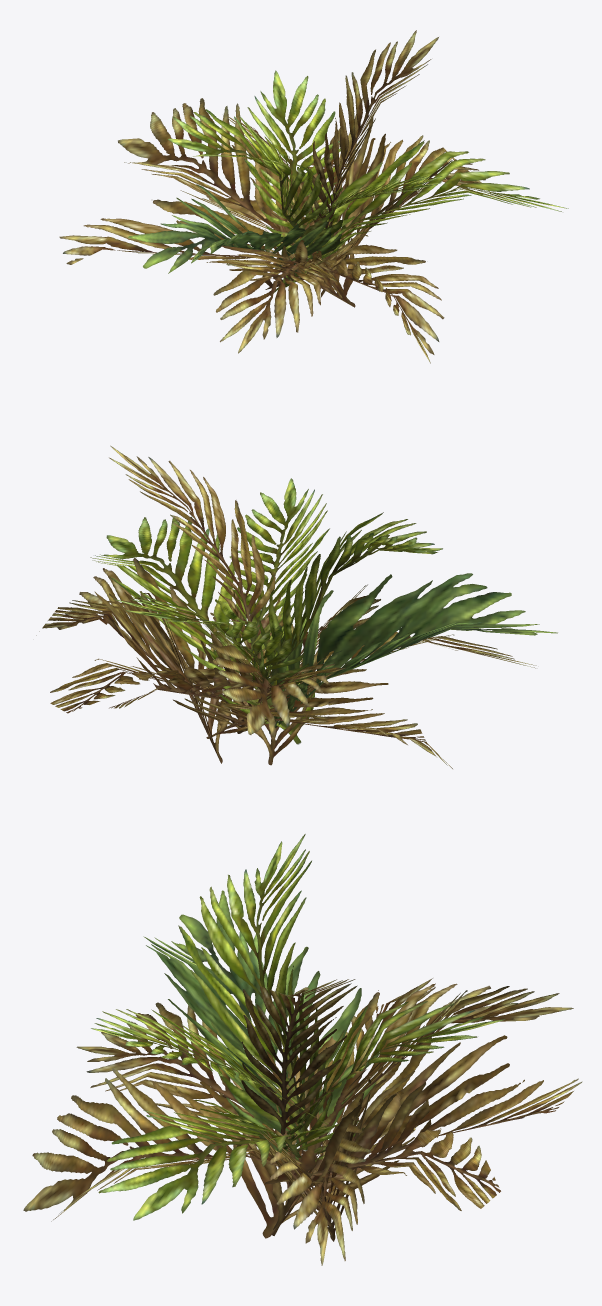
The model's file is S_Plant_Yellow016.FBX.
The picture shows the model from 3 angles, top to bottom: view 1: azimuth 30°, elevation 25°; view 2: azimuth 150°, elevation 25°; view 3: azimuth 270°, elevation 25°; orthographic projection. The views are drawn at different scales.
Visible parts, largest first — view 1: S_Plant_Yellow016; view 2: S_Plant_Yellow016; view 3: S_Plant_Yellow016.
Boxes of the visible parts, left/top/right/bottom form: S_Plant_Yellow016: left=59, top=30, right=568, bottom=363; S_Plant_Yellow016: left=36, top=445, right=557, bottom=768; S_Plant_Yellow016: left=23, top=834, right=582, bottom=1265.
Bounding box in the file's own units: 275 × 211 × 139.
